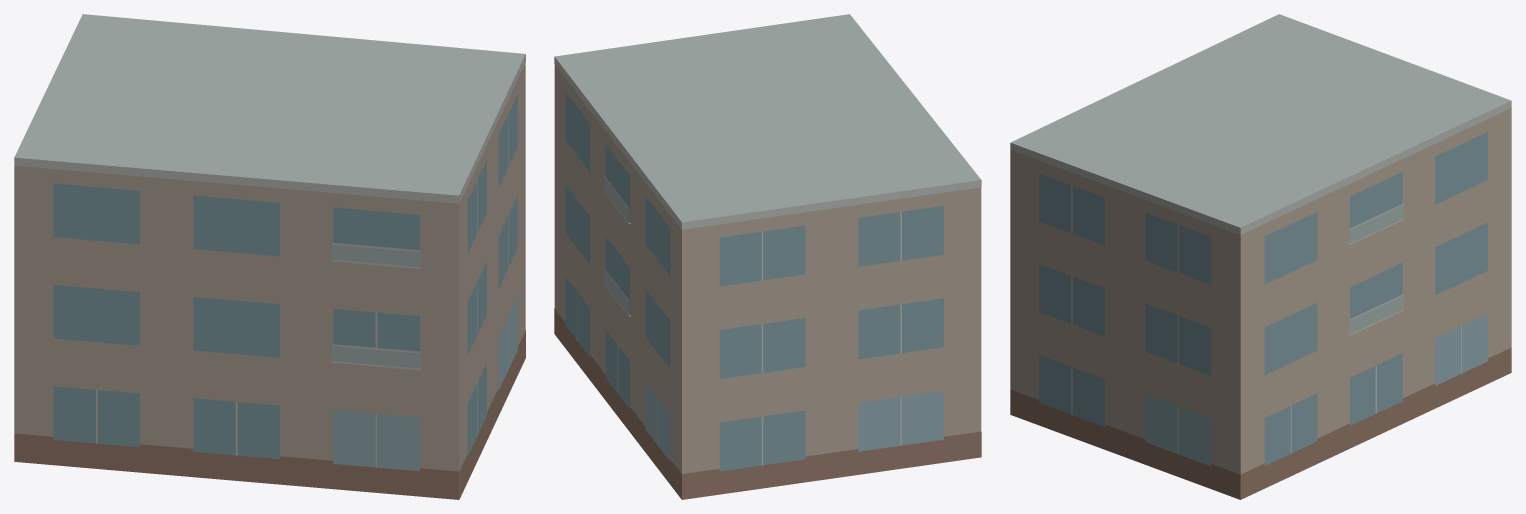
Rendered from survey-upis-32657799.glb.
3 renders of one model, left to right at view 1: azimuth 30°, elevation 25°; view 2: azimuth 150°, elevation 25°; view 3: azimuth 270°, elevation 25°, orthographic. The views are drawn at different scales.
Parts seen in each view (by area): view 1: survey-upis-32657799.tmp; view 2: survey-upis-32657799.tmp; view 3: survey-upis-32657799.tmp.
Boxes of the visible parts, x1,y1,x2,y2 form: survey-upis-32657799.tmp: [14, 14, 525, 499]; survey-upis-32657799.tmp: [554, 14, 981, 499]; survey-upis-32657799.tmp: [1010, 14, 1511, 499].
Size of the model in its own units: 15.43 by 9.15 by 15.29.
